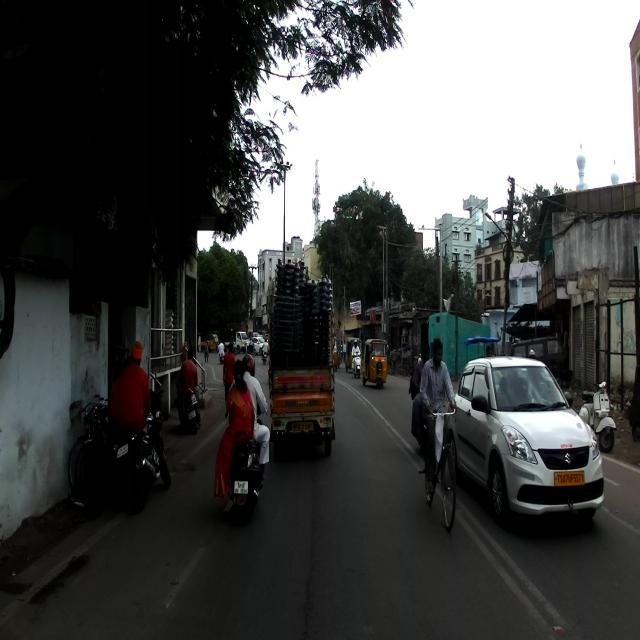car: (446, 353, 604, 529)
motorcycle: (112, 387, 172, 512)
scooter: (225, 400, 269, 516), (577, 381, 617, 454), (171, 374, 201, 436)
